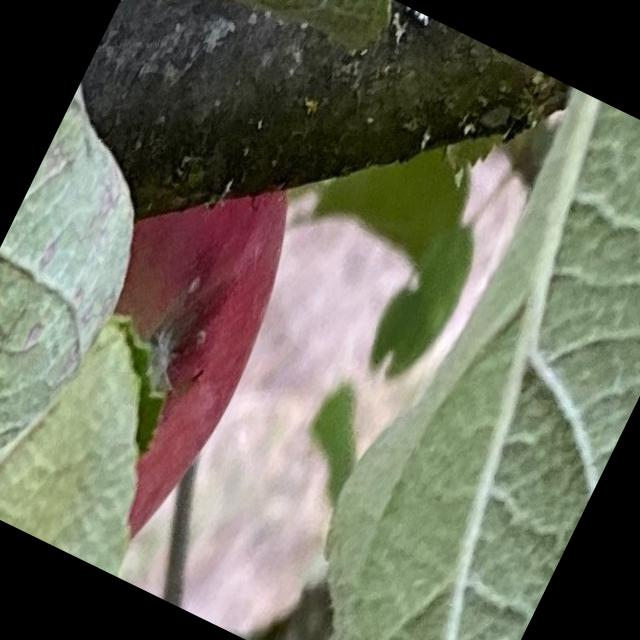Apples: (0, 0, 385, 553)
